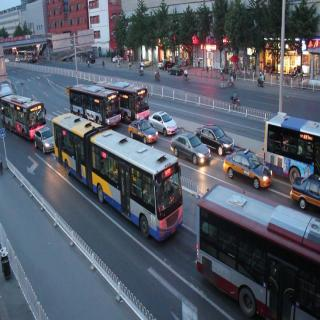BigCar: (196, 187, 320, 320), (85, 121, 189, 245), (264, 111, 320, 181), (67, 86, 123, 127), (0, 94, 48, 135)
Car: (224, 145, 273, 188), (170, 125, 211, 164), (197, 119, 233, 154), (126, 114, 160, 146), (150, 107, 177, 134), (35, 127, 55, 156), (167, 62, 184, 79), (137, 54, 150, 68), (84, 52, 97, 65), (112, 52, 125, 65)
